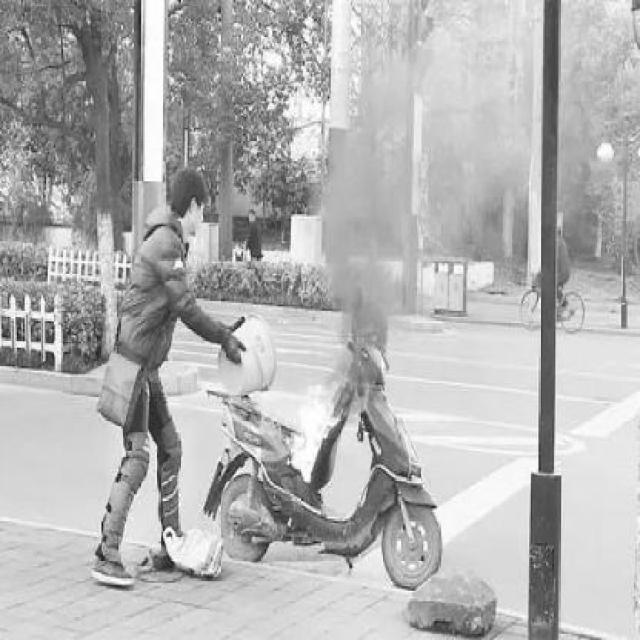Fire: (297, 388, 337, 474)
Smoke: (330, 164, 406, 380)
